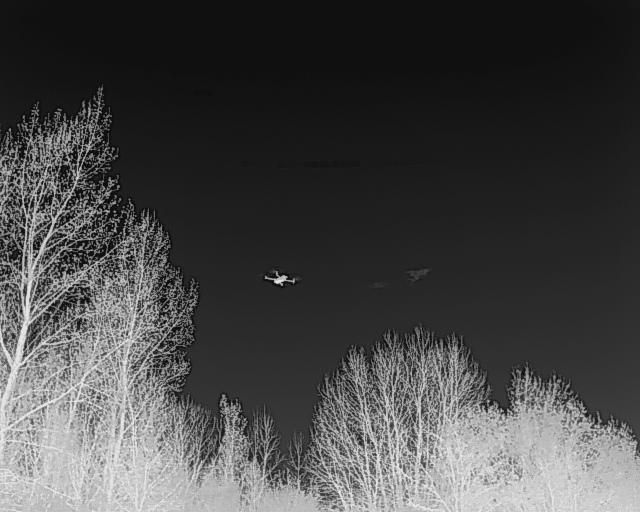drone: (263, 266, 299, 293)
